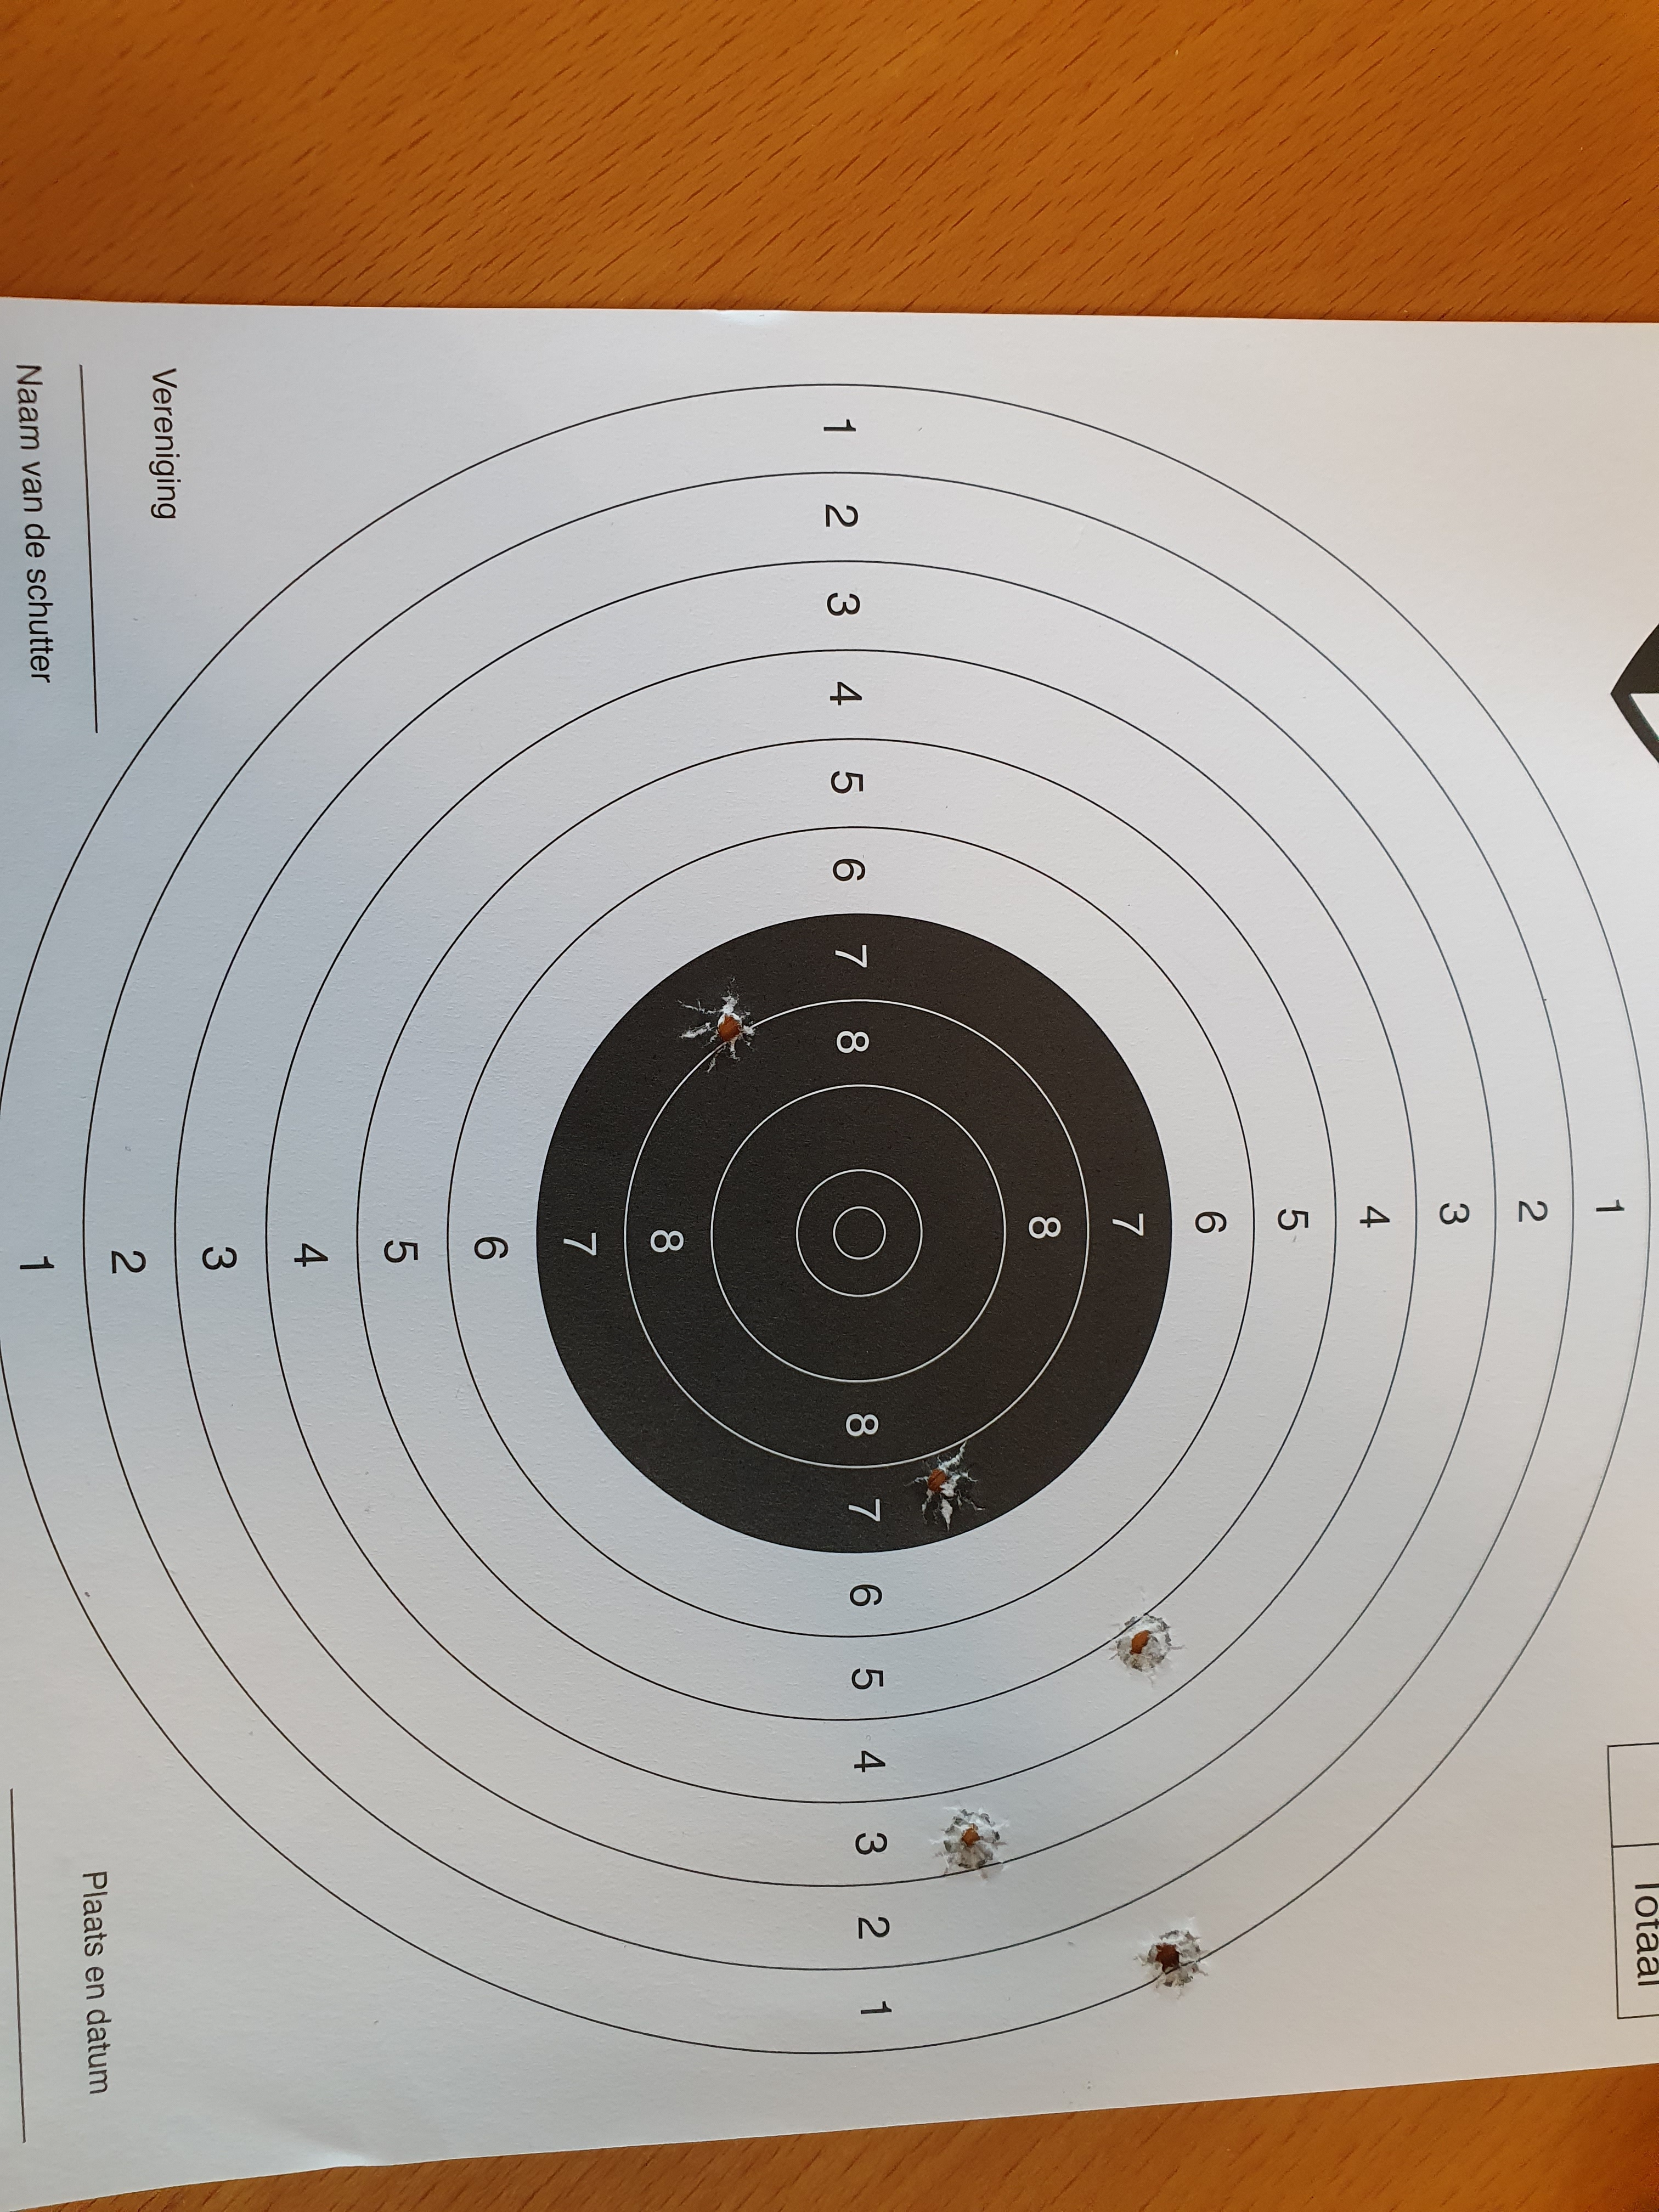center: (535, 913, 1171, 1554)
out: (0, 381, 1652, 2054)
shot: (673, 974, 762, 1075), (901, 1439, 990, 1533), (925, 1799, 1011, 1885), (1131, 1916, 1216, 2000), (1101, 1611, 1190, 1691)
target: (795, 1169, 924, 1298)
